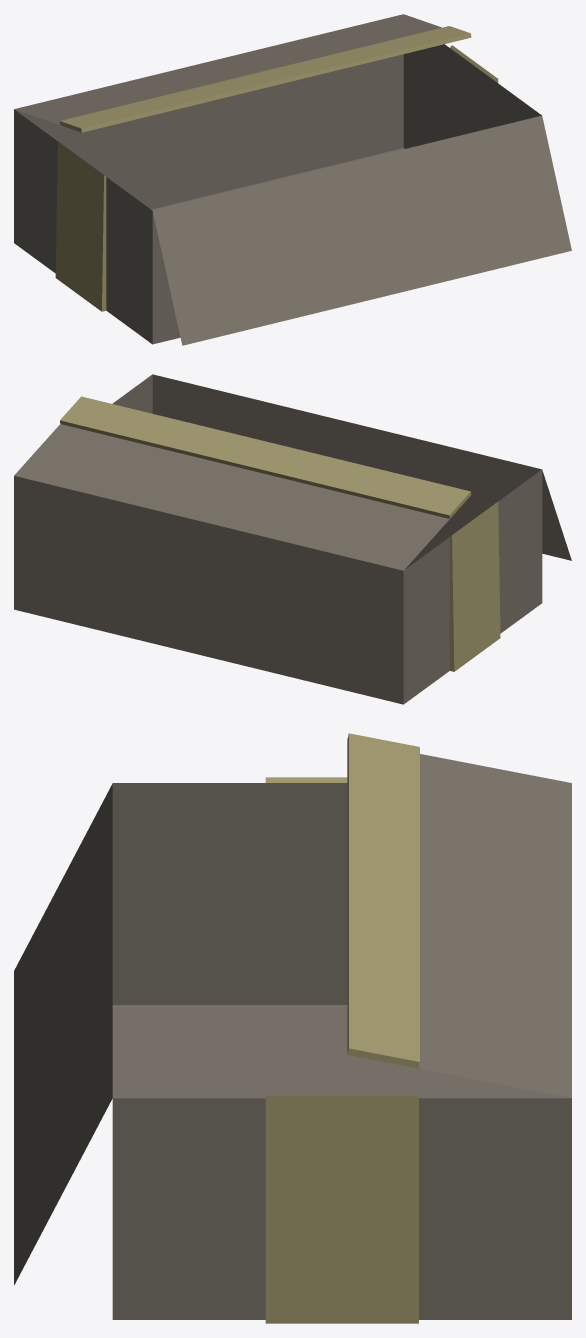
Rendered from box_open1.fbx.
3 renders of one model, top to bottom at view 1: azimuth 30°, elevation 25°; view 2: azimuth 150°, elevation 25°; view 3: azimuth 270°, elevation 25°, orthographic. The views are drawn at different scales.
Visible parts, largest first — view 1: polySurface23, polySurface11; view 2: polySurface23, polySurface11; view 3: polySurface23, polySurface11.
Boxes of the visible parts, box(x1,y1,x2,y2) form: polySurface23: box(14, 14, 571, 345); polySurface11: box(55, 45, 498, 311); polySurface23: box(14, 374, 571, 704); polySurface11: box(449, 501, 500, 671); polySurface23: box(14, 733, 571, 1319); polySurface11: box(265, 777, 418, 1323).
Size of the model in its own units: 3.55 by 1.39 by 2.59.
Materials: 2 (2 with a texture image).
